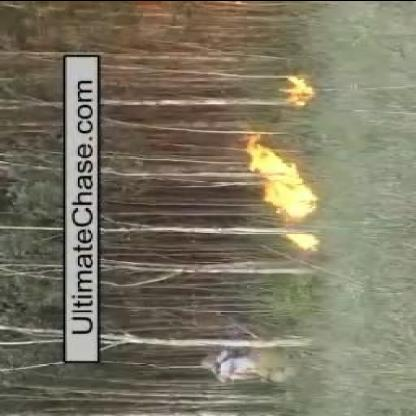foggia-v2-map80-epoch100 - v1 4323: (245, 146, 316, 218), (284, 76, 312, 106), (288, 234, 320, 252)
